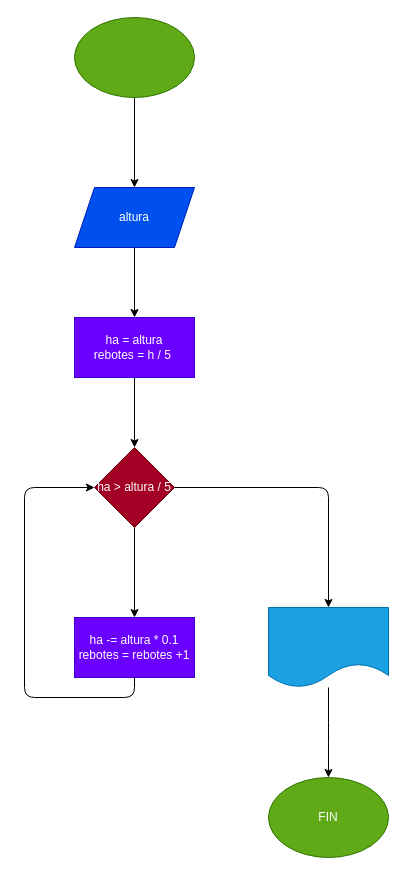
Image size: 406x875. Some labels were removed from this diagram. Here are the shapes that lost their labels. From the top down, the box of each, then its label:
(74, 16, 194, 98): INICIO
(268, 606, 388, 688): rebotes
